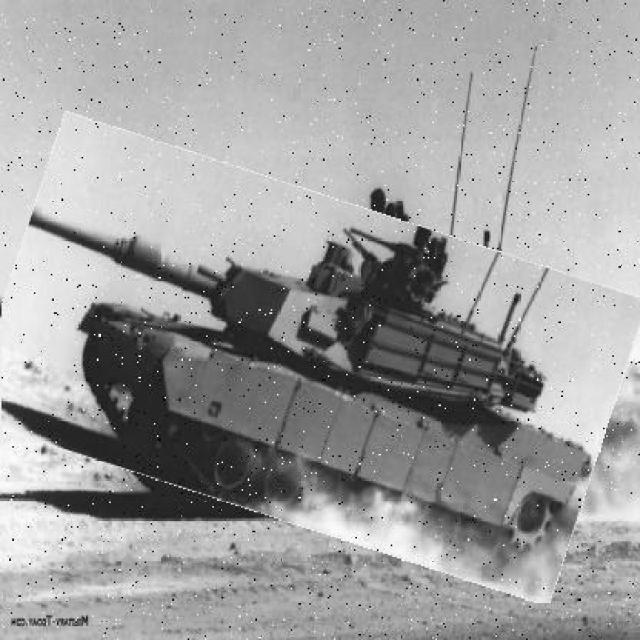Tank: (3, 155, 632, 564)
